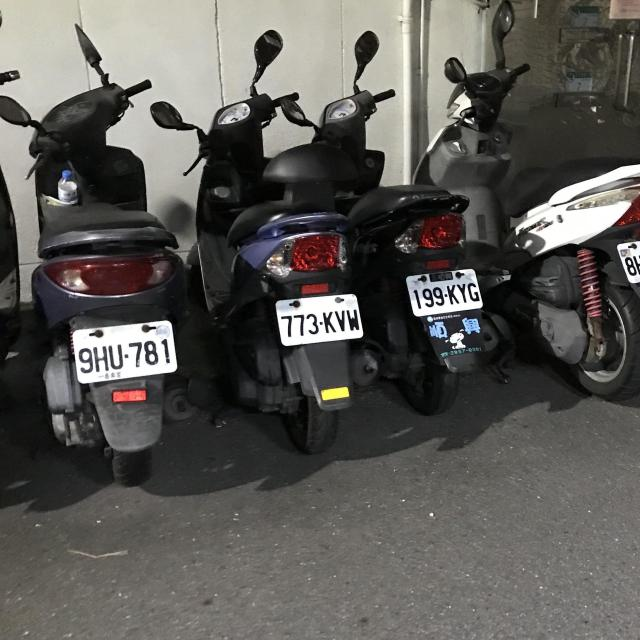W: (69, 318, 183, 386), (273, 291, 366, 348), (404, 266, 485, 318), (614, 227, 640, 285)
